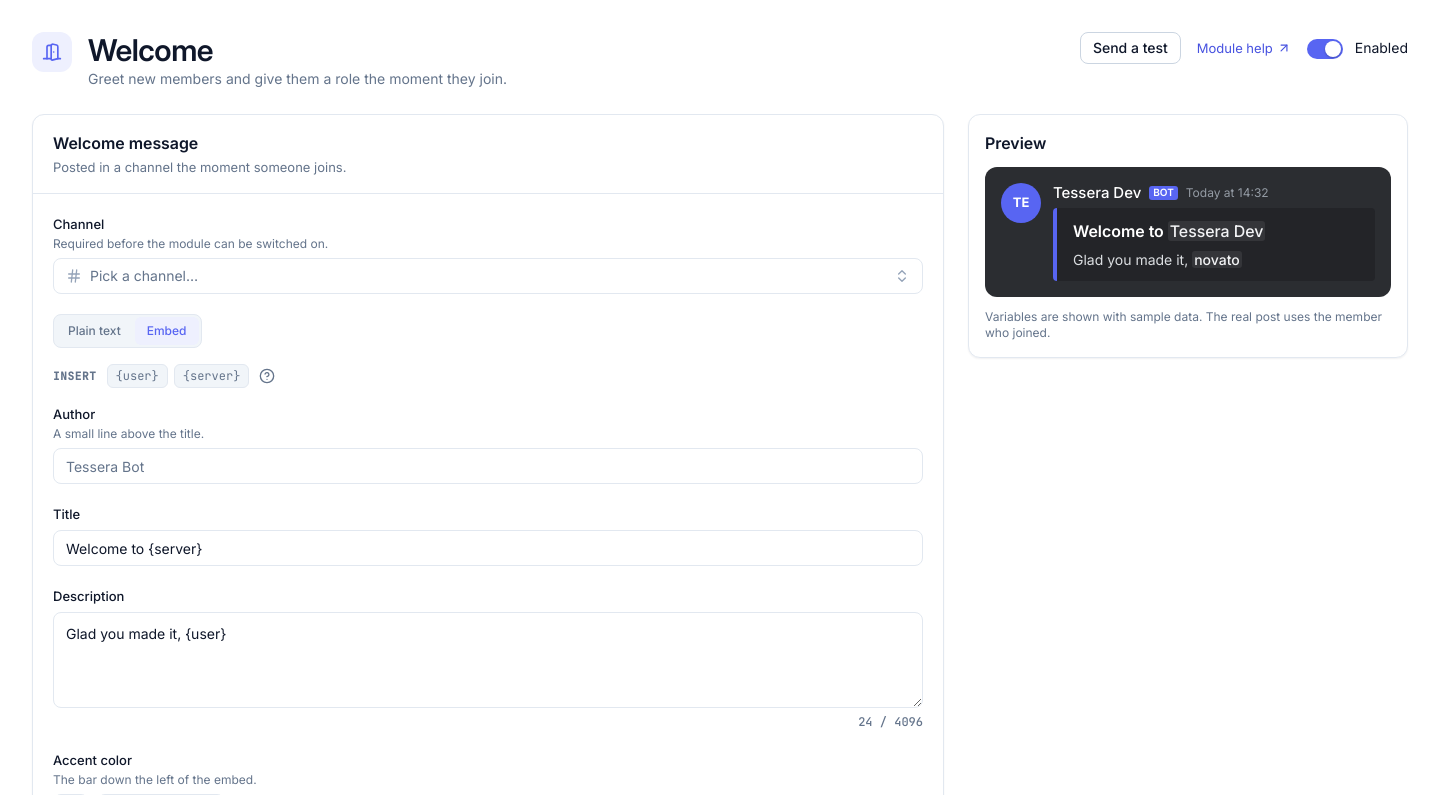
Test: changing where the welcome message goes › names only the arriving channel on a first configuration
The image size is (1440, 795).
Click the button "Pick a channel…" at (144, 276), box [53,258,923,294]
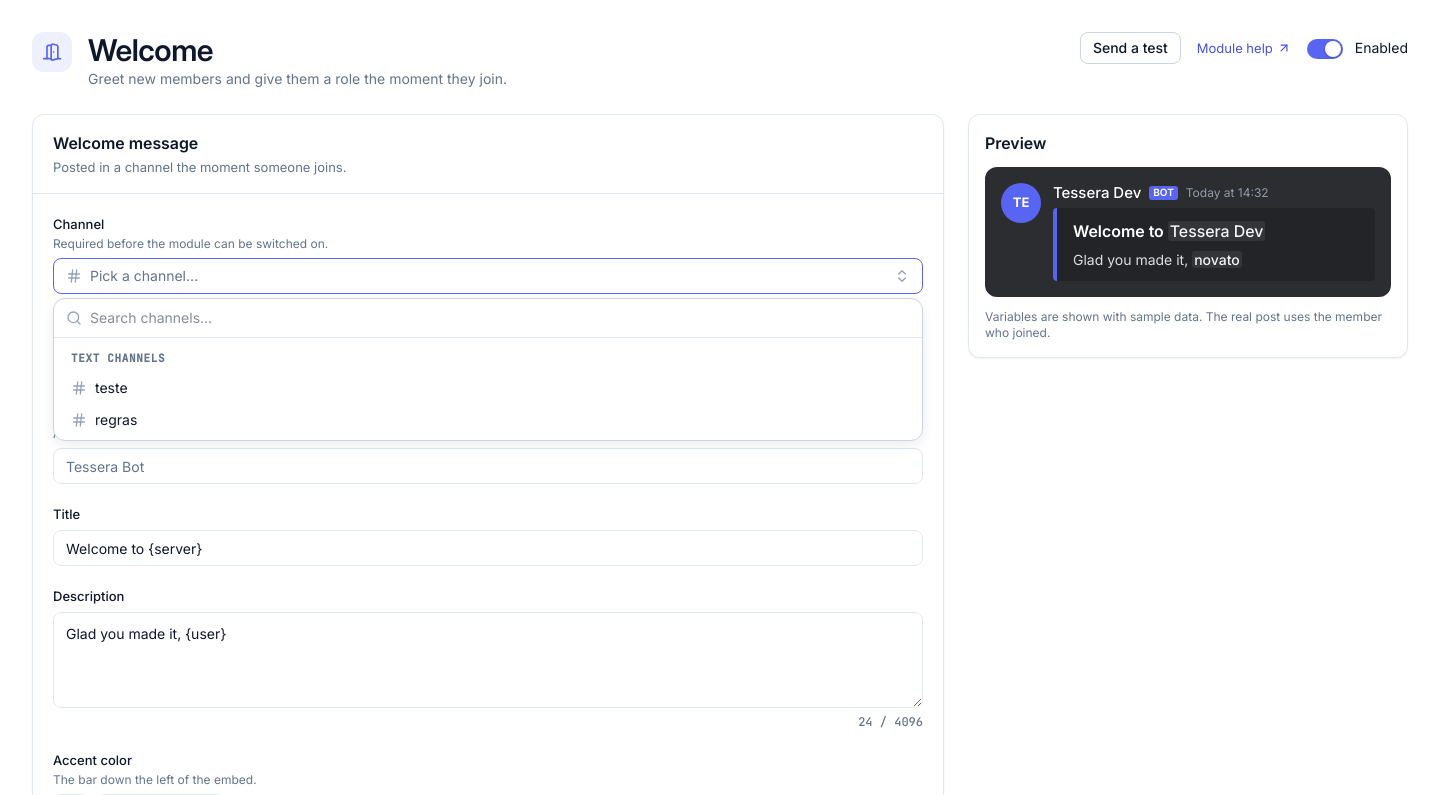
Click the button "regras" at (116, 420), box [63,404,913,436]
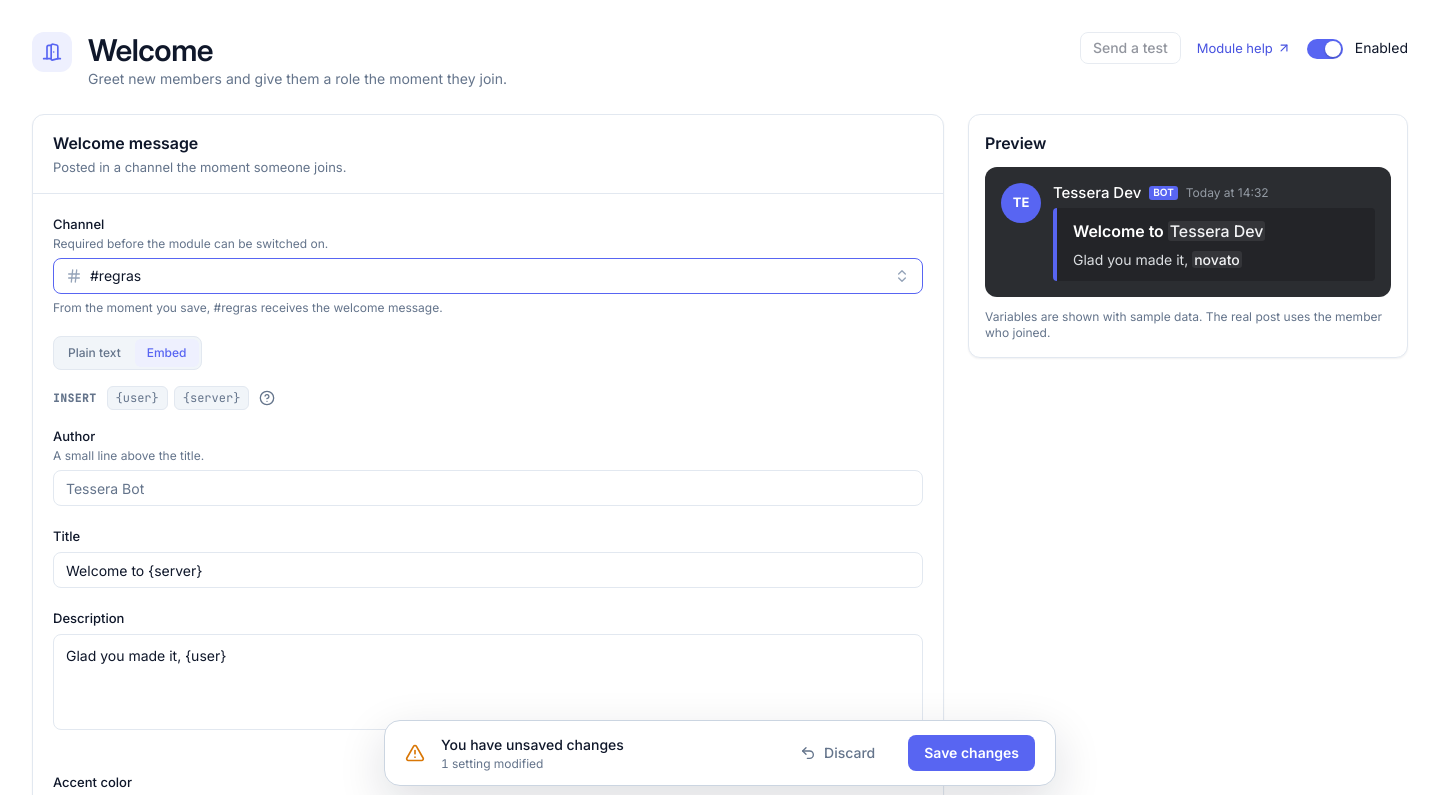
Result: the text "From the moment you save, #regras receives the welcome message." is shown at [53,300,443,316]
